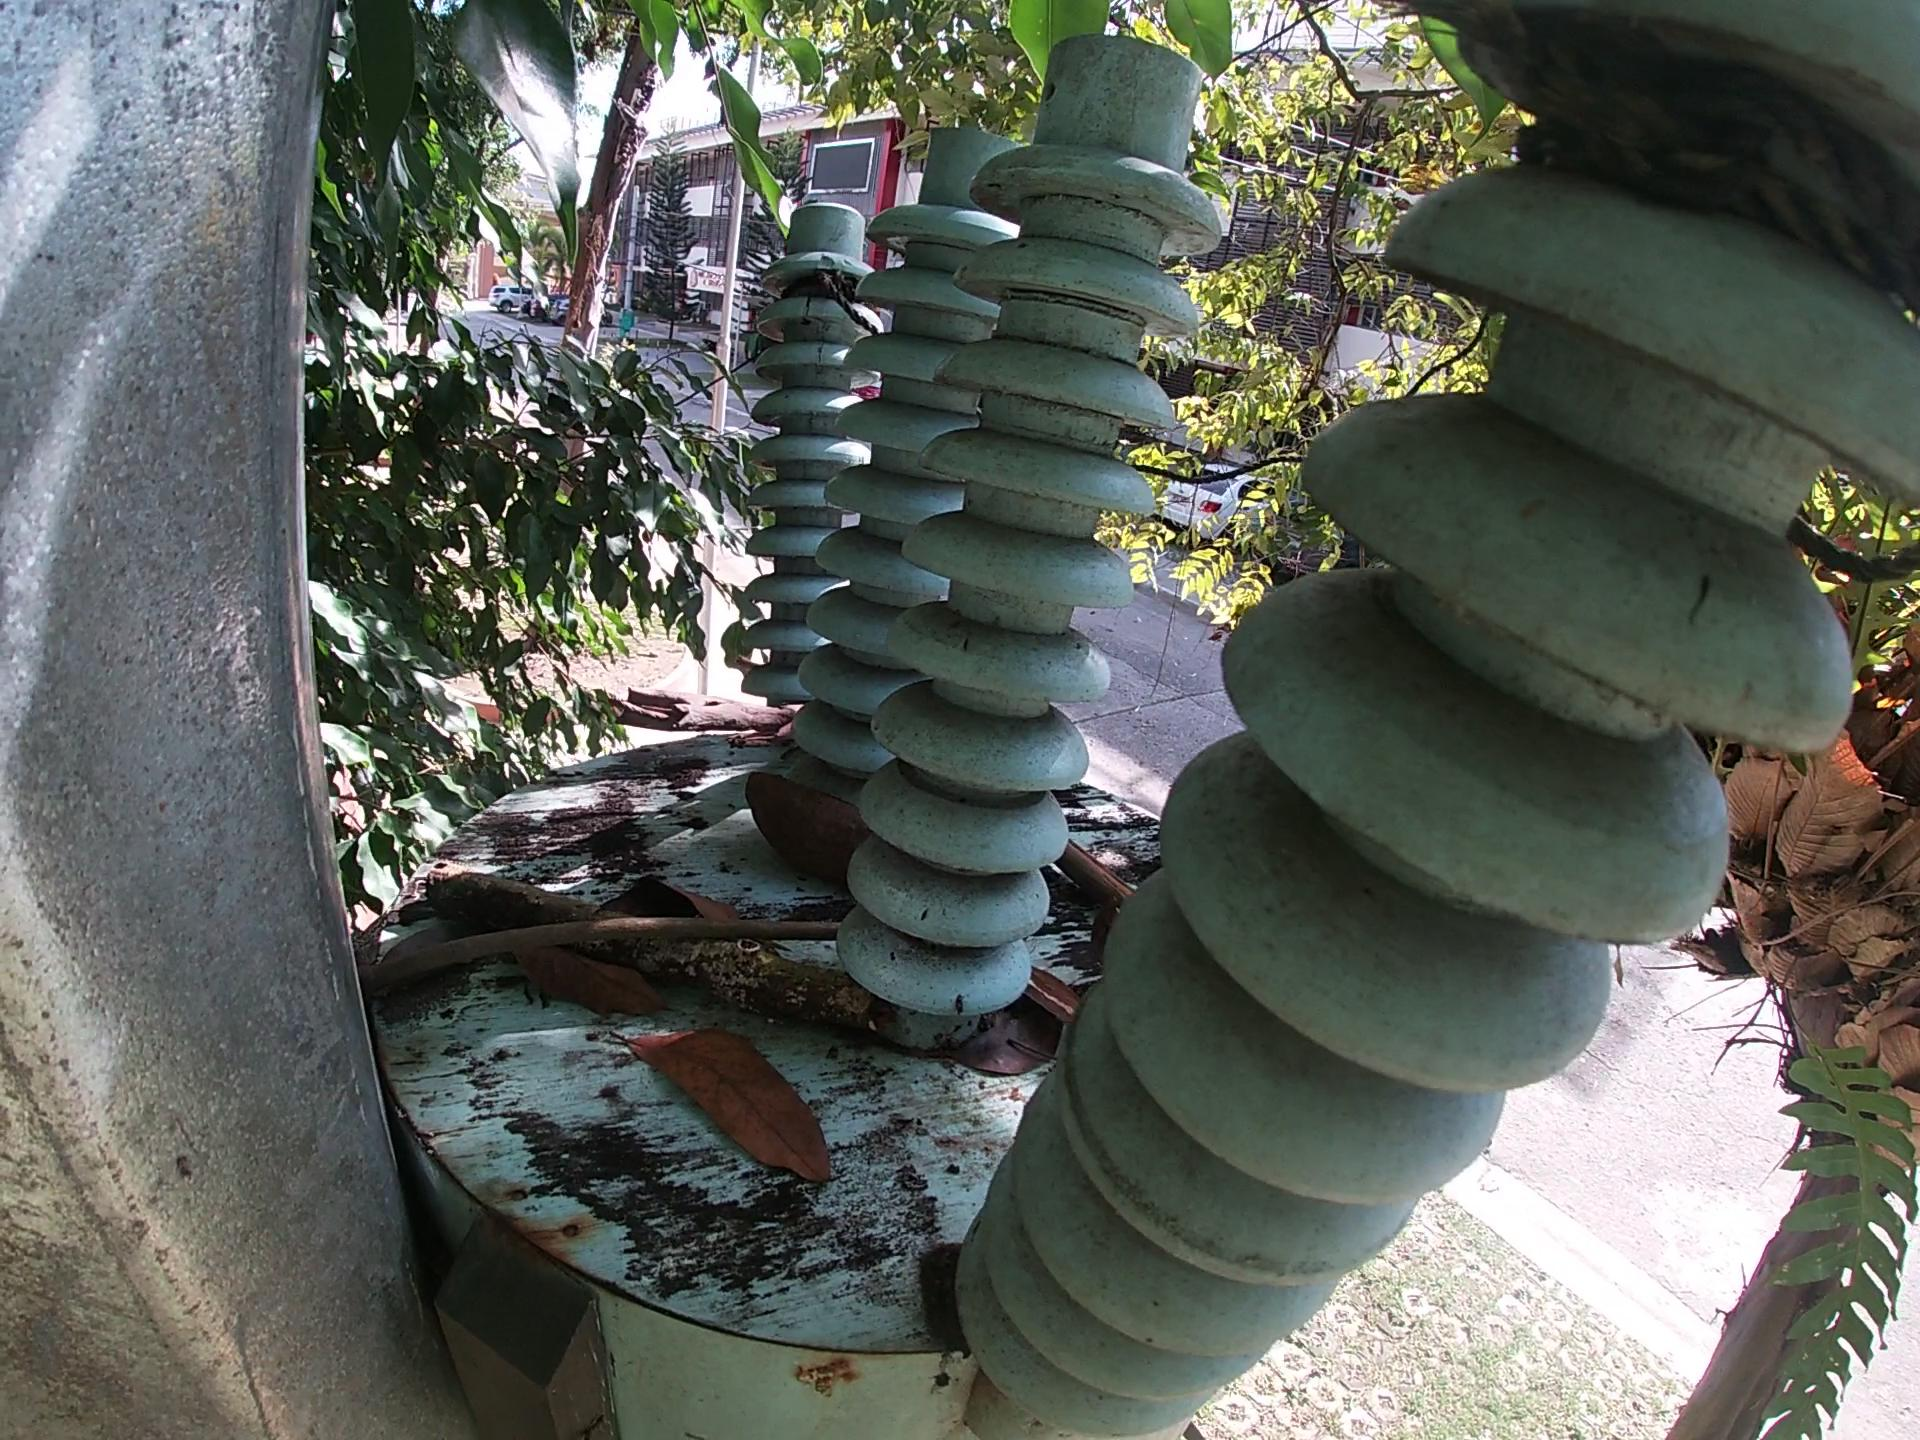leaf: (608, 1021, 836, 1190), (509, 944, 671, 1015), (913, 1006, 1067, 1078), (593, 874, 744, 920)
mahogany fruit: (745, 768, 874, 886), (1020, 967, 1084, 1027)
tree branch: (416, 861, 878, 1032), (351, 915, 847, 1001), (602, 684, 804, 749), (1058, 839, 1134, 911)
